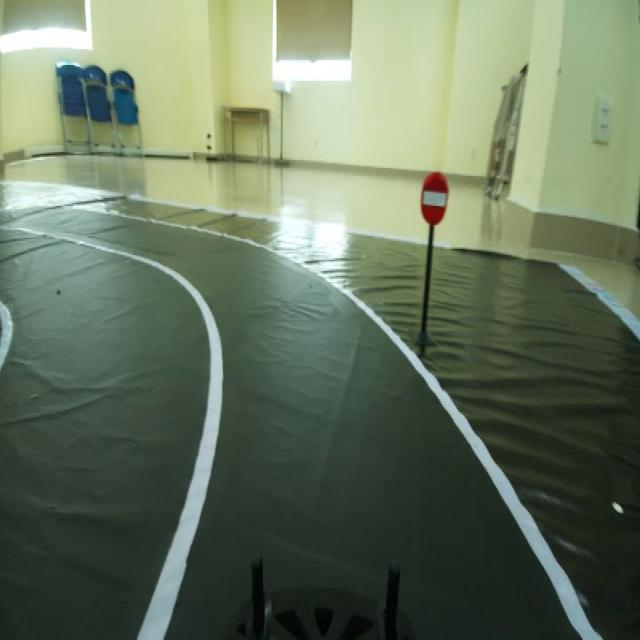no_entry: (410, 161, 455, 237)
